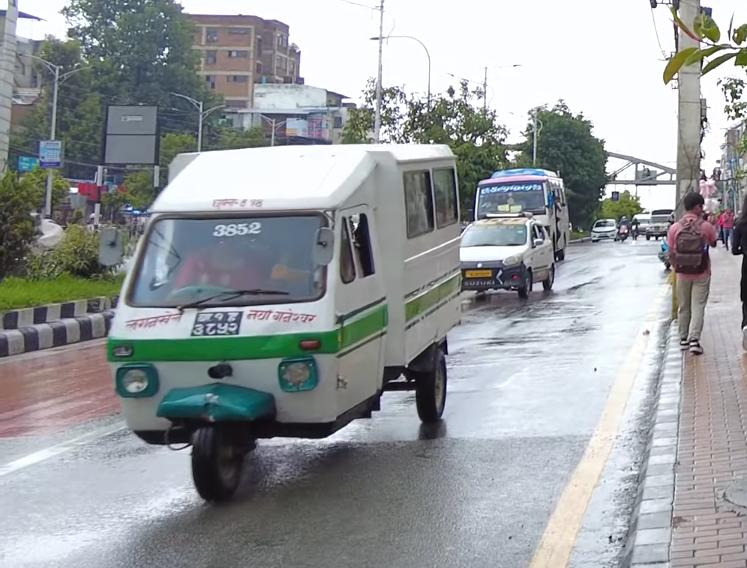bus: (470, 167, 577, 262)
taxi: (444, 212, 557, 303)
tempo: (88, 135, 468, 505)
